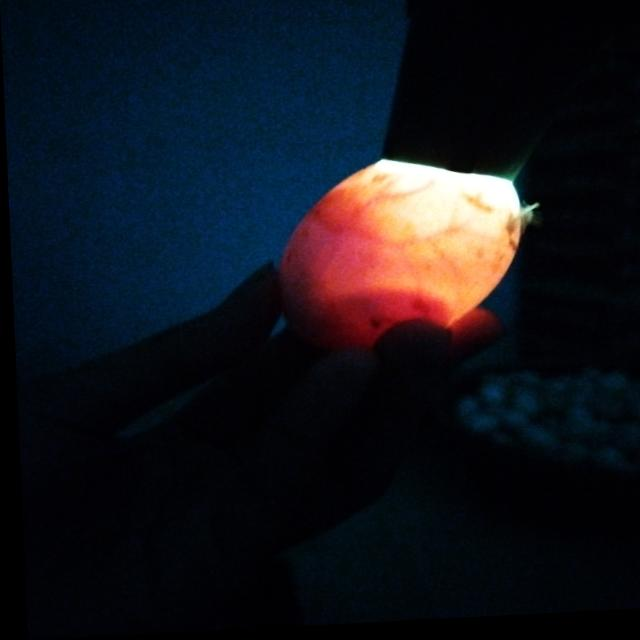Embriao: (272, 253, 444, 353)
